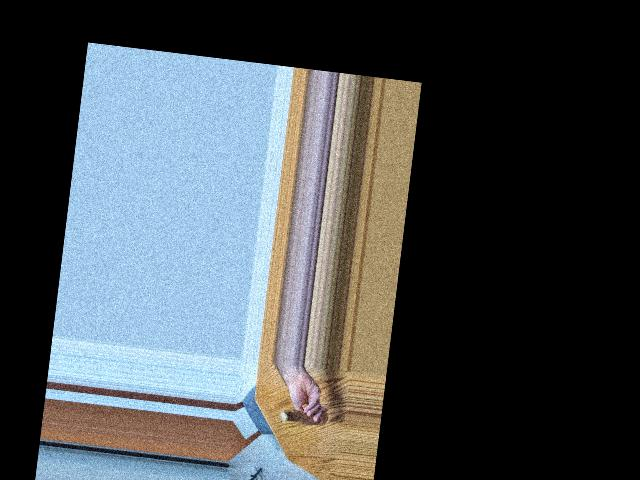sweet_potato: (278, 402, 330, 427)
